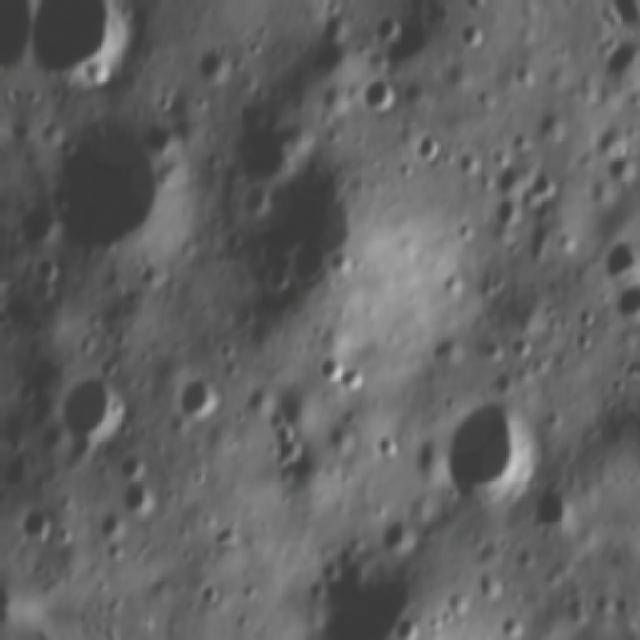crater: (35, 106, 200, 266), (238, 154, 388, 328), (427, 390, 542, 518), (26, 0, 143, 97), (40, 368, 146, 464), (212, 92, 312, 192), (163, 355, 240, 434), (516, 476, 581, 546), (581, 31, 640, 96), (369, 509, 428, 563), (589, 227, 640, 288), (358, 66, 407, 122), (333, 352, 385, 397), (521, 158, 568, 207), (308, 338, 354, 388), (446, 18, 494, 59), (409, 124, 453, 168), (488, 189, 534, 229), (16, 502, 56, 544), (120, 474, 158, 518), (532, 102, 570, 140), (90, 501, 128, 539), (506, 56, 543, 90), (494, 606, 529, 640), (391, 611, 429, 640)
